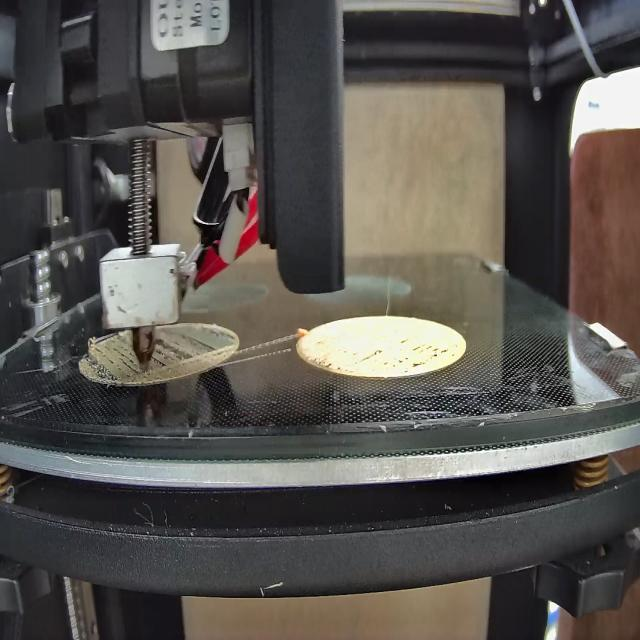under_extrusion: (361, 337, 457, 382), (151, 329, 235, 372), (82, 332, 134, 378), (309, 338, 335, 375)
